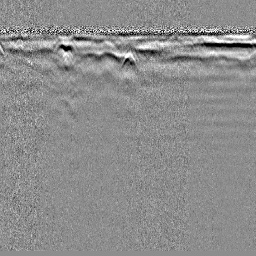cavity: (120, 50, 139, 71)
